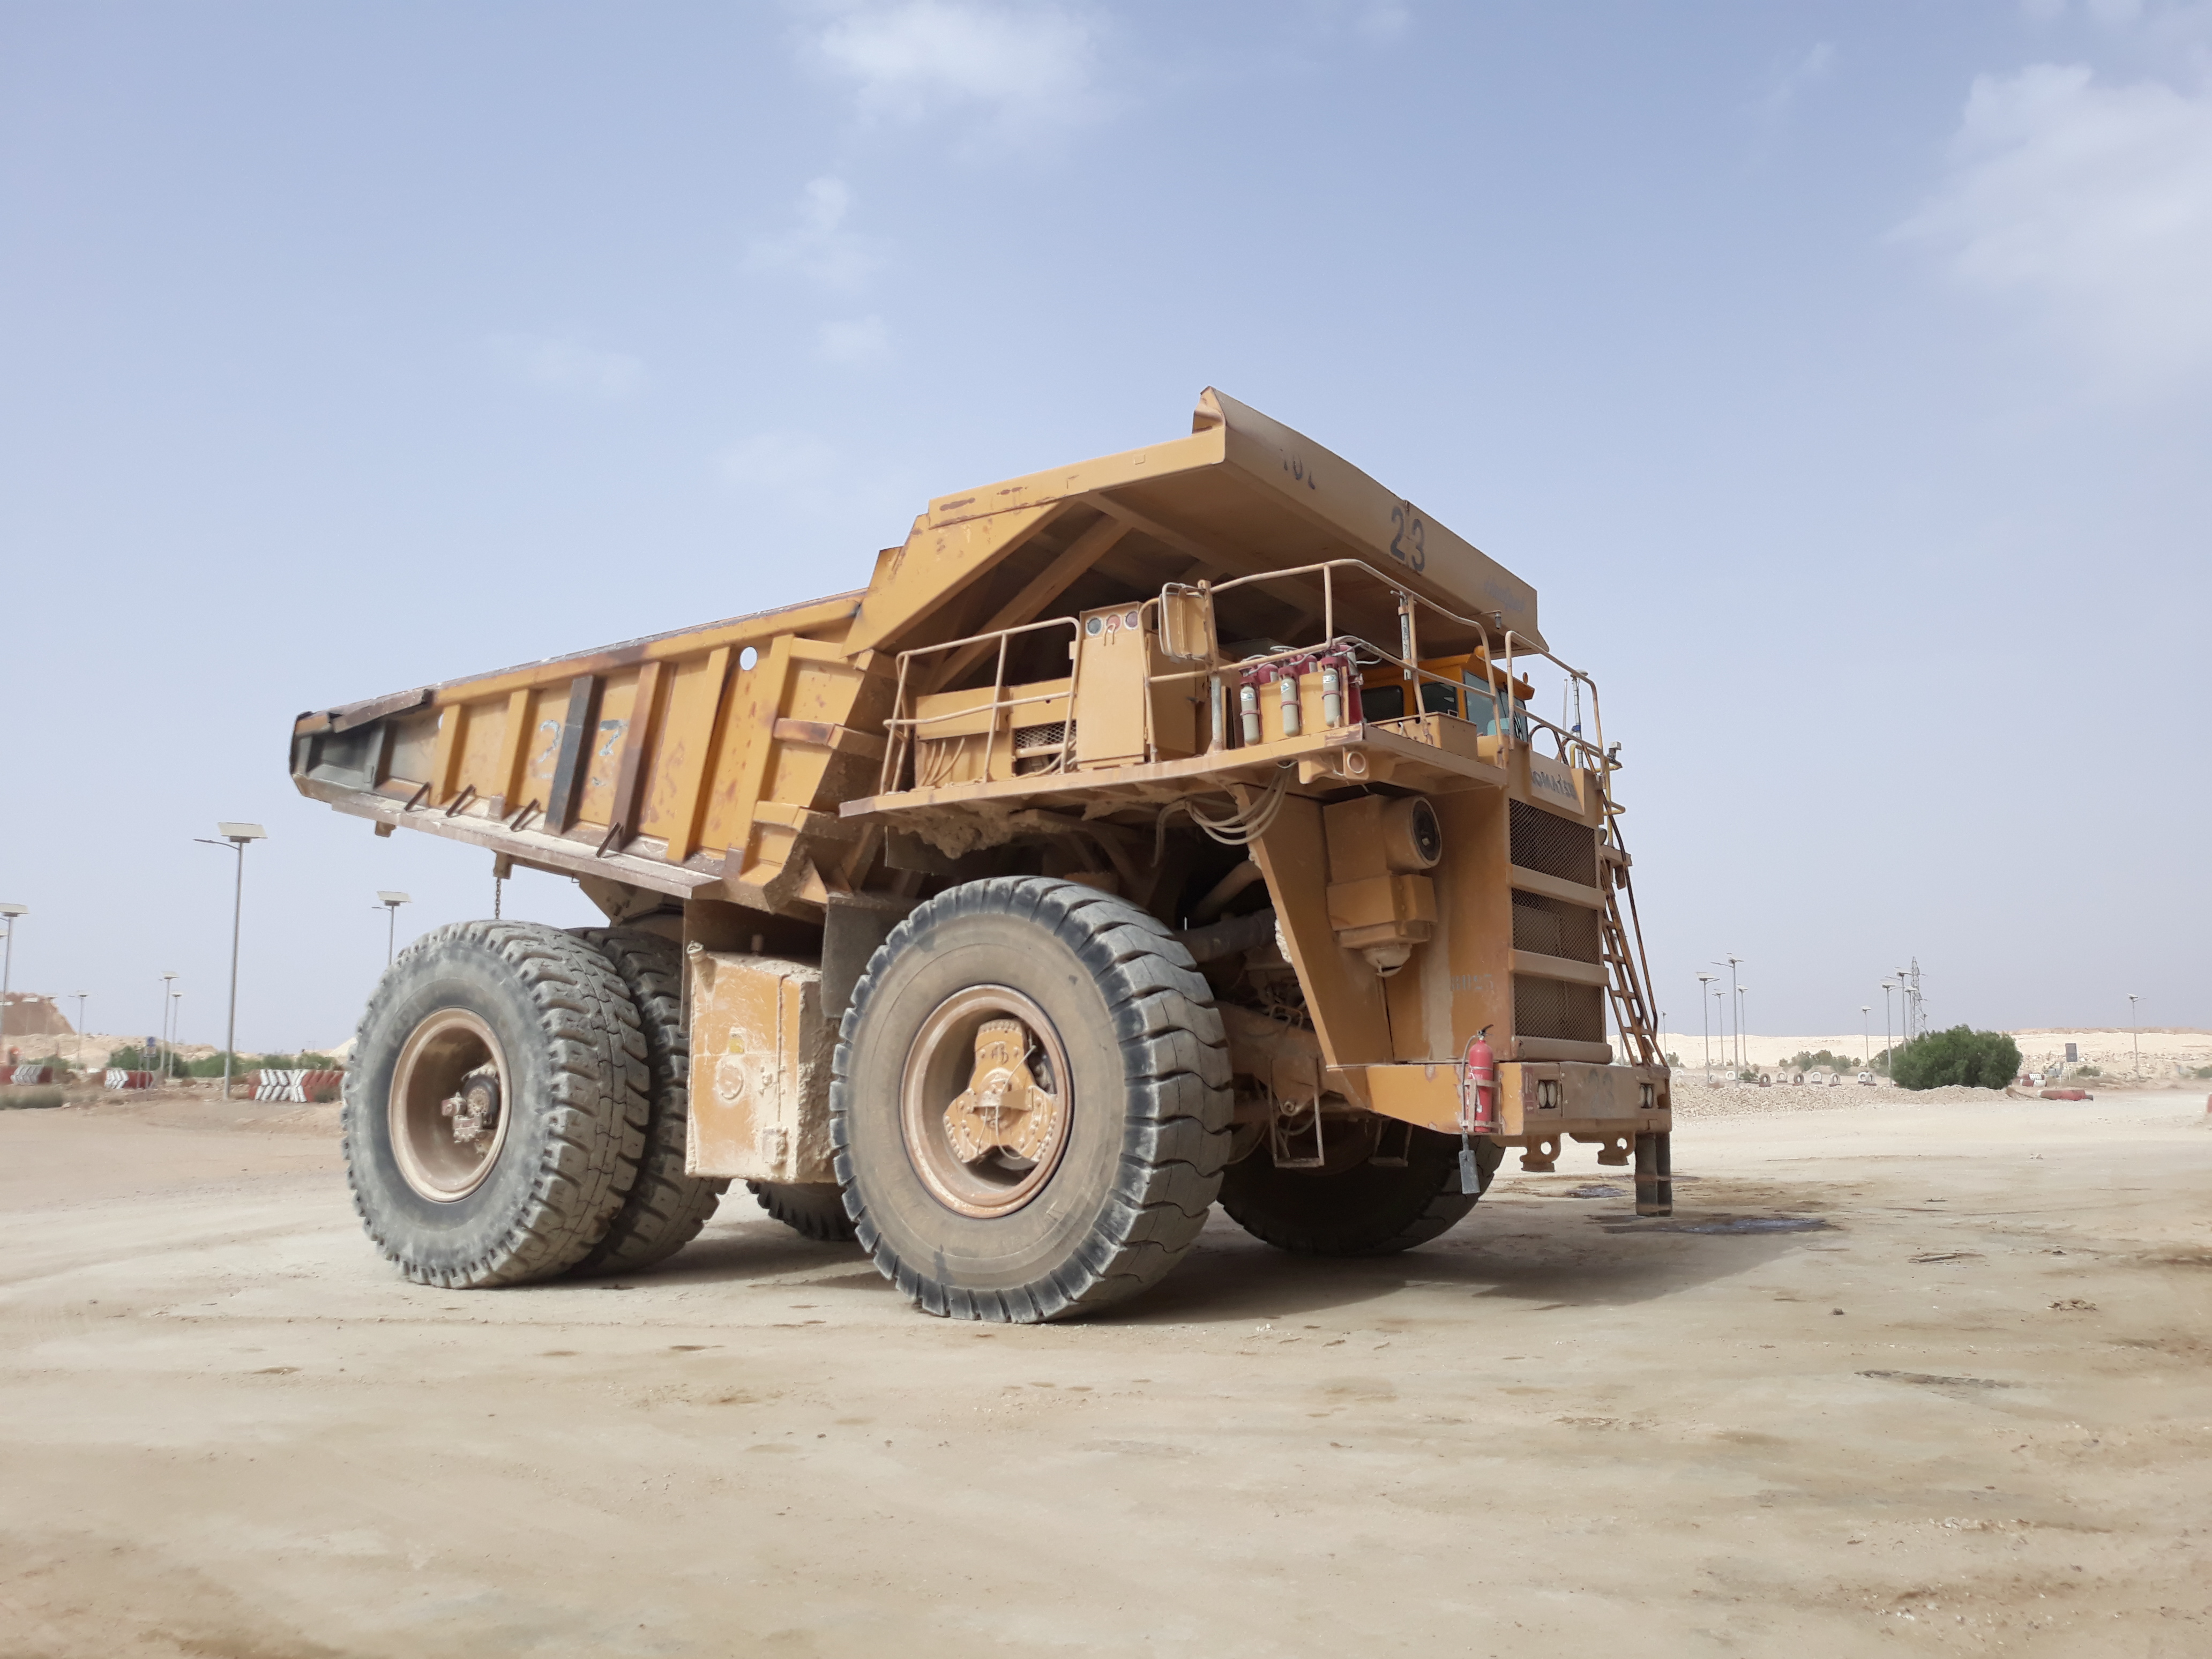camion: (275, 369, 1689, 1387)
